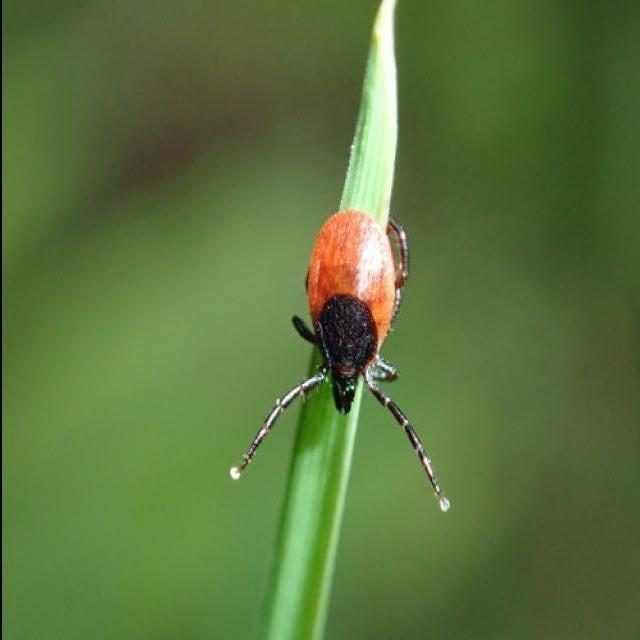Ixodes Ricinus-F: (228, 210, 447, 512)
